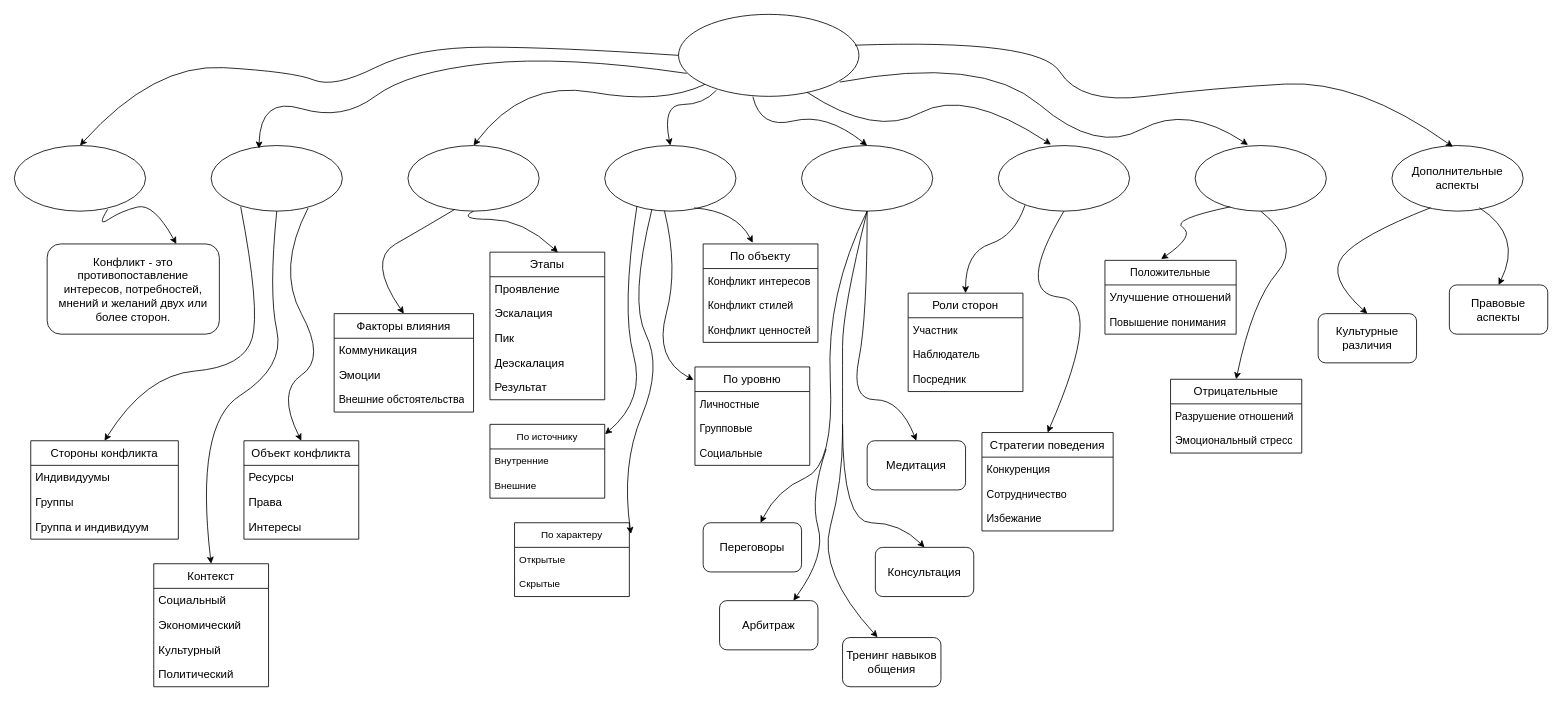
Some shapes in this 1562 by 701 pixel diagram are drawn without their labels. Each missing label, with the centre of its shape:
Виды конфликтов: point 670,178
Динамика конфликта: point 473,178
Интеллект-карта "Конфликты": point 768,55
Методы разрешения конфликтов: point 867,178
Определение: point 80,178
Последствия конфликтов: point 1260,178
Психология конфликтов: point 1064,178
Структура конфликта: point 276,178
